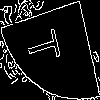T: (25, 25, 68, 66)
